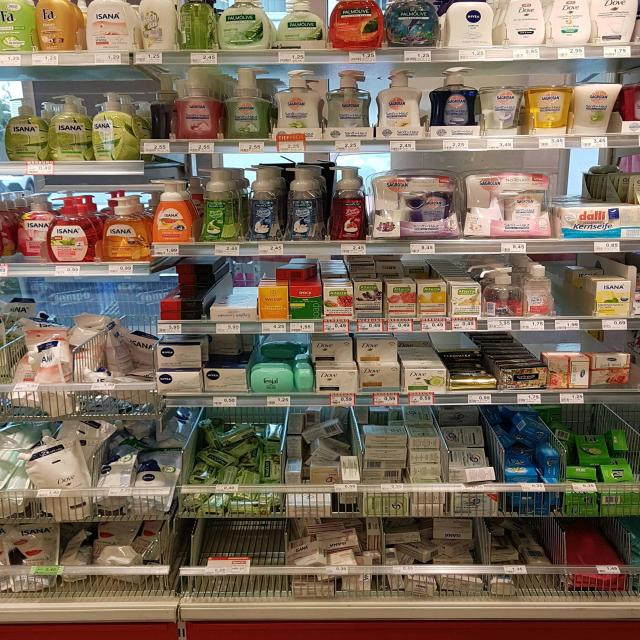void: (205, 523, 277, 559), (550, 283, 574, 315)
